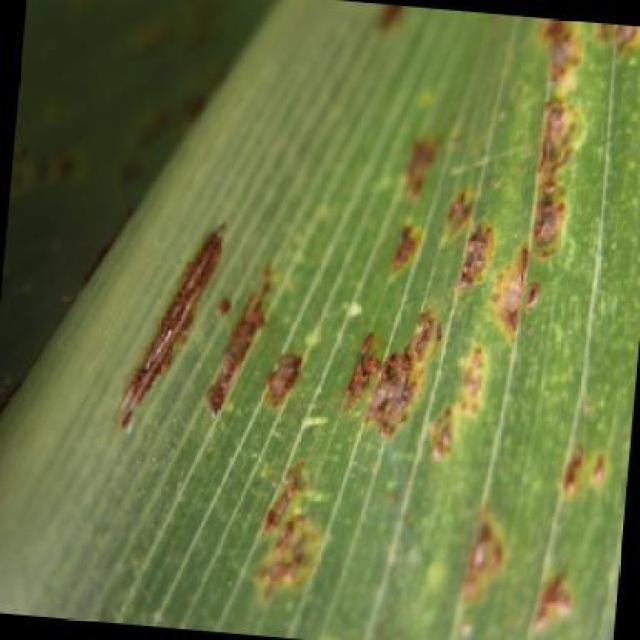Corn_Rust: (24, 26, 604, 609)
